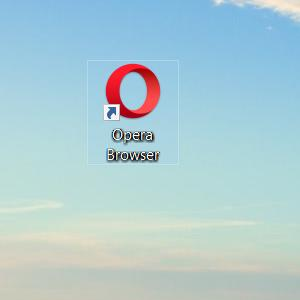opera: (103, 63, 160, 121)
